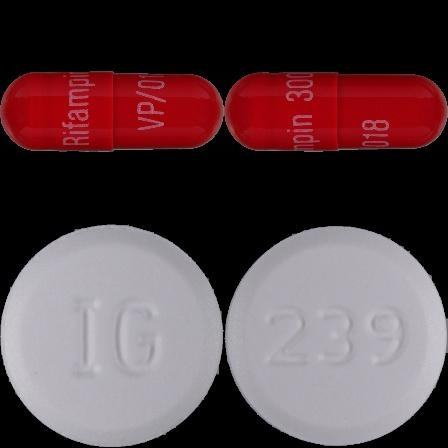68151-0985: (0, 0, 224, 224)
